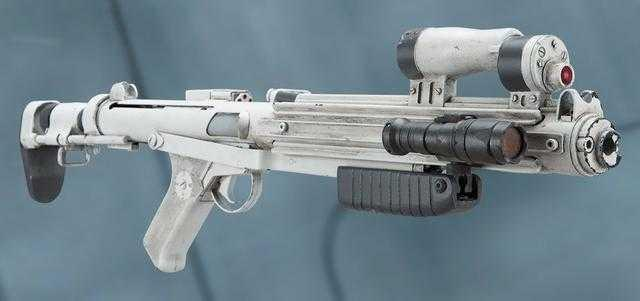heavyweapon: (16, 22, 630, 267)
